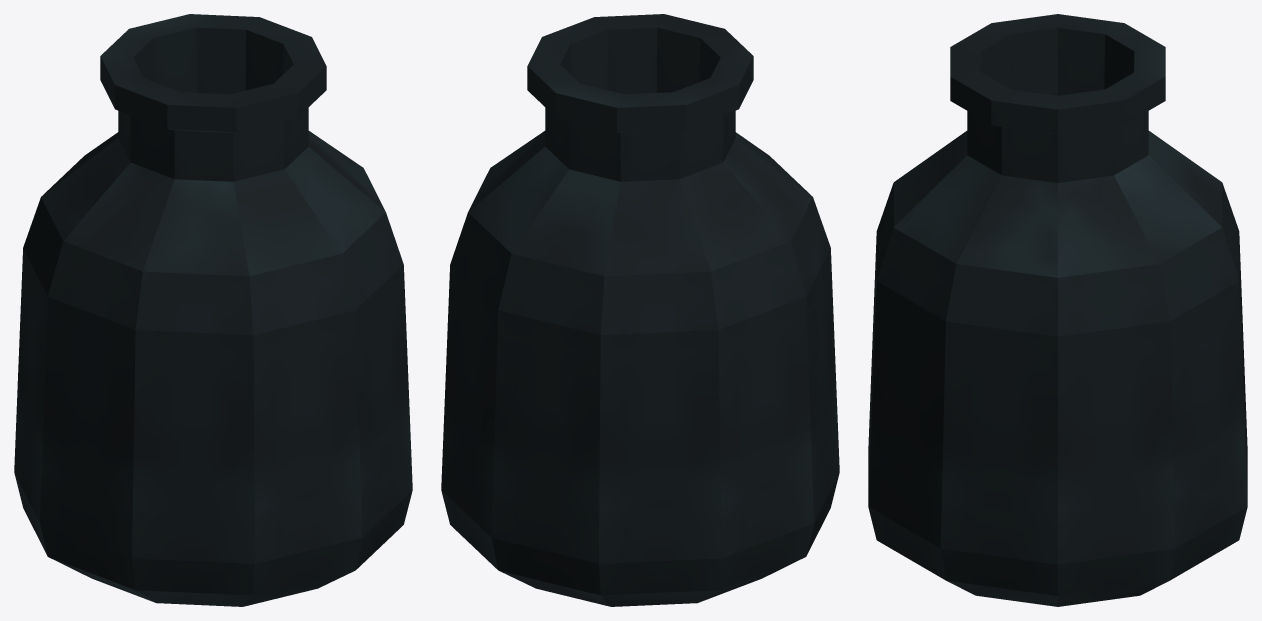
File: InkBottle.obj
3 views of the same model, side by side, from view 1: azimuth 30°, elevation 25°; view 2: azimuth 150°, elevation 25°; view 3: azimuth 270°, elevation 25° (orthographic).
Visible parts, largest first — view 1: InkBottle_GlassRimAndInk; view 2: InkBottle_GlassRimAndInk; view 3: InkBottle_GlassRimAndInk.
Boxes of the visible parts, x1,y1,x2,y2 form: InkBottle_GlassRimAndInk: [14, 14, 412, 606]; InkBottle_GlassRimAndInk: [441, 14, 839, 606]; InkBottle_GlassRimAndInk: [868, 14, 1247, 606].
Size of the model in its own units: 0.134 by 0.18 by 0.1274.
Materials: 2 (1 with a texture image).
